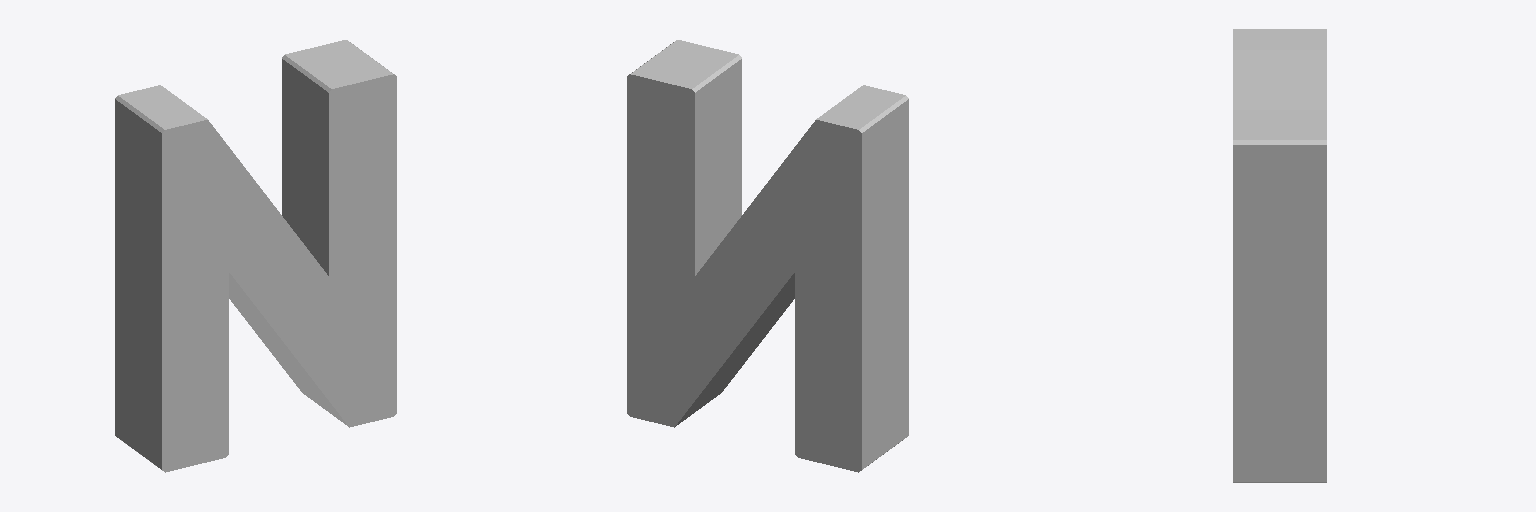
The picture shows the model from 3 angles: view 1: azimuth 30°, elevation 25°; view 2: azimuth 150°, elevation 25°; view 3: azimuth 270°, elevation 25°; orthographic projection.
Parts seen in each view (by area): view 1: text: ABCDEFGHIJKLMNOPQRSTUVWXYZ[number redacted]; view 2: text: ABCDEFGHIJKLMNOPQRSTUVWXYZ[number redacted]; view 3: text: ABCDEFGHIJKLMNOPQRSTUVWXYZ[number redacted].
Boxes of the visible parts, x1,y1,x2,y2 form: text: ABCDEFGHIJKLMNOPQRSTUVWXYZ[number redacted]: [115, 40, 396, 472]; text: ABCDEFGHIJKLMNOPQRSTUVWXYZ[number redacted]: [627, 40, 908, 472]; text: ABCDEFGHIJKLMNOPQRSTUVWXYZ[number redacted]: [1233, 29, 1326, 482].
Bounding box in the file's own units: 71.49 × 99.72 × 25.